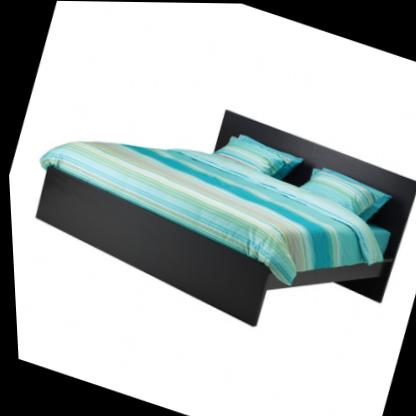Bed: (9, 54, 416, 369)
